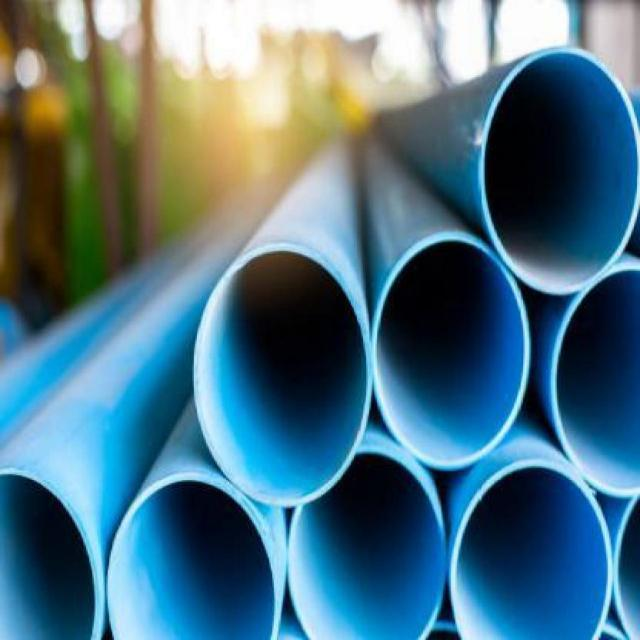pipe: (192, 242, 372, 507), (479, 48, 639, 296), (372, 232, 530, 471), (287, 446, 446, 640), (449, 461, 614, 639), (106, 472, 280, 639), (549, 262, 640, 499), (0, 467, 103, 639), (612, 490, 640, 640)
